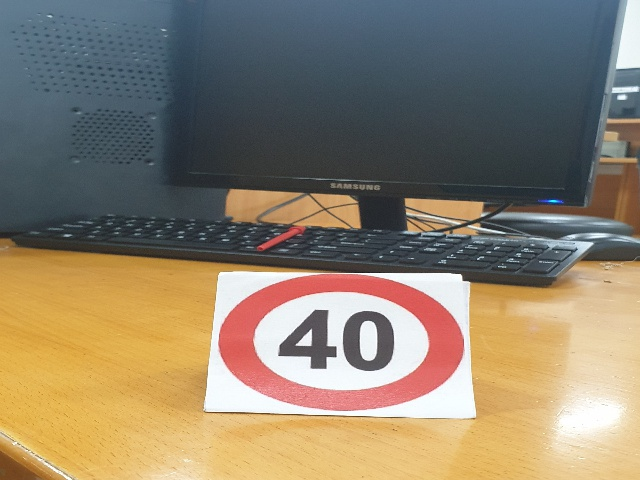Limit 40: (217, 272, 467, 411)
